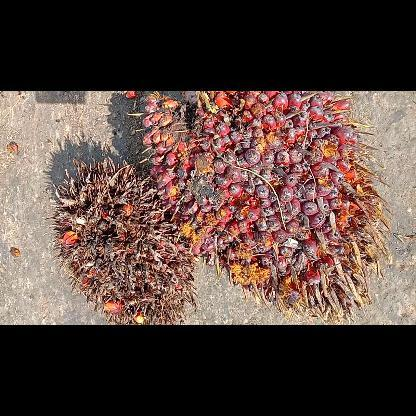TBS masak: (128, 90, 392, 324)
Terlalu masak: (46, 156, 198, 324)
